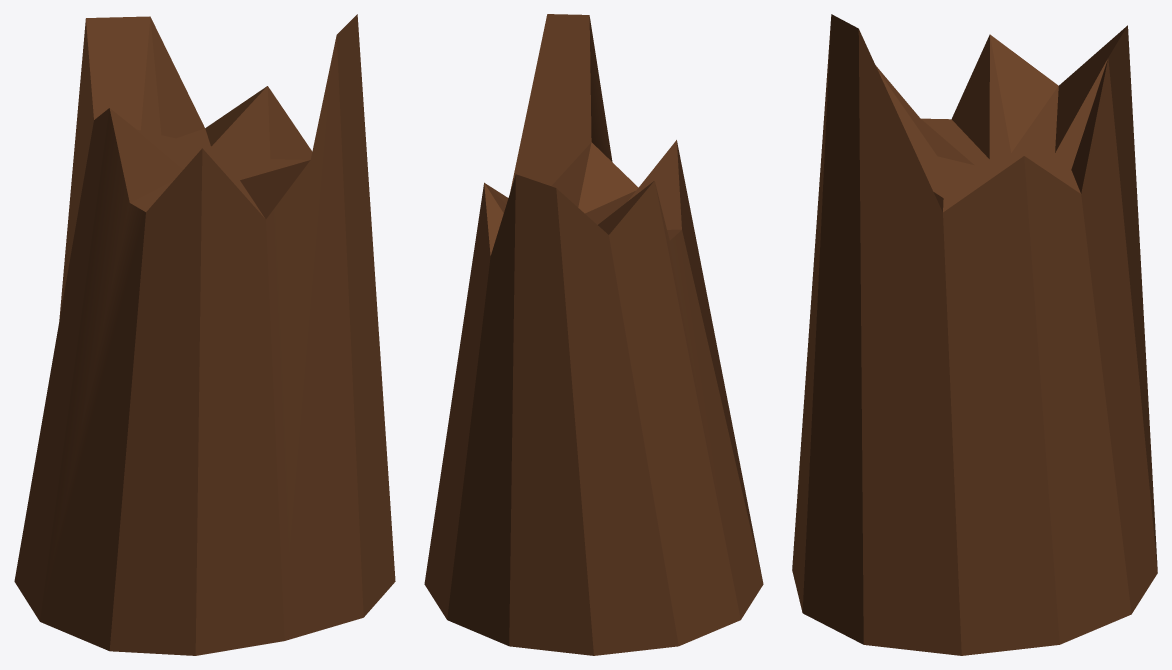
The model's file is SM_TestTreestump.fbx.
3 renders of one model, left to right at view 1: azimuth 30°, elevation 25°; view 2: azimuth 150°, elevation 25°; view 3: azimuth 270°, elevation 25°, orthographic. The views are drawn at different scales.
Visible parts, largest first — view 1: pasted__pCylinder1; view 2: pasted__pCylinder1; view 3: pasted__pCylinder1.
Part boxes in pixels (x1,y1,x2,y2): pasted__pCylinder1: (14, 14, 395, 655); pasted__pCylinder1: (424, 14, 763, 655); pasted__pCylinder1: (792, 14, 1157, 655).
Size of the model in its own units: 1.98 by 3.33 by 1.85.
